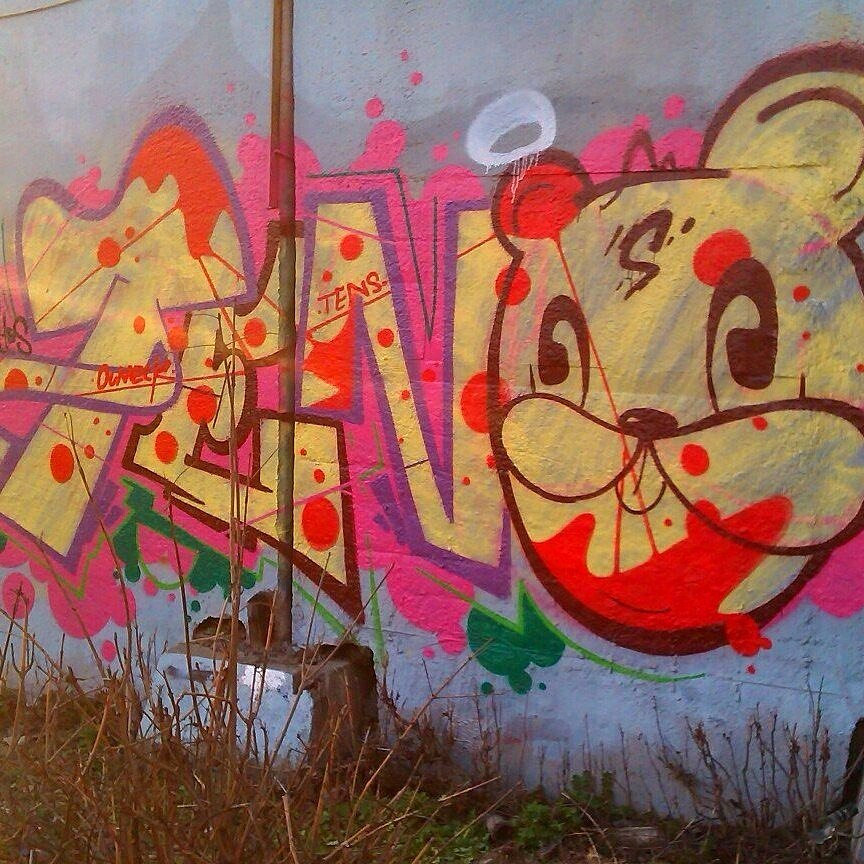graffity: (4, 40, 864, 696)
